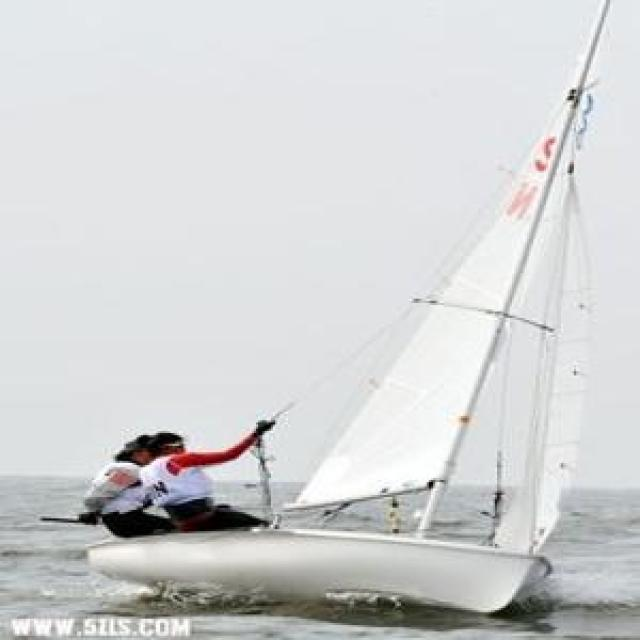sailboat: (94, 0, 606, 612)
